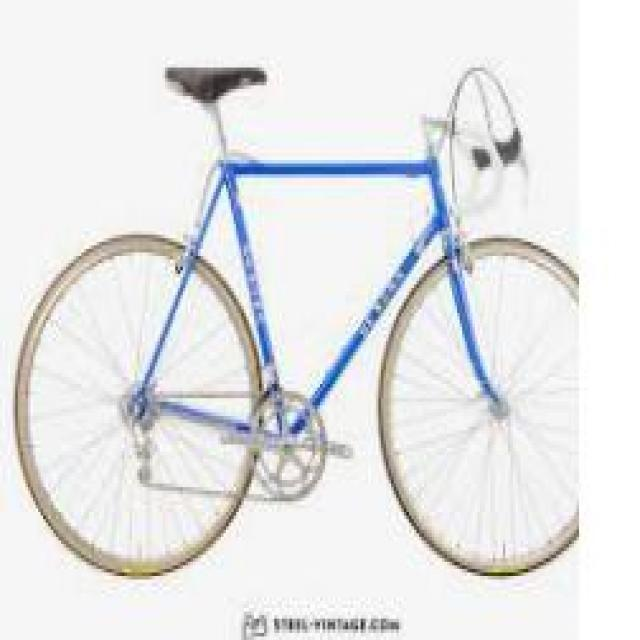bicycle: (16, 79, 575, 552)
